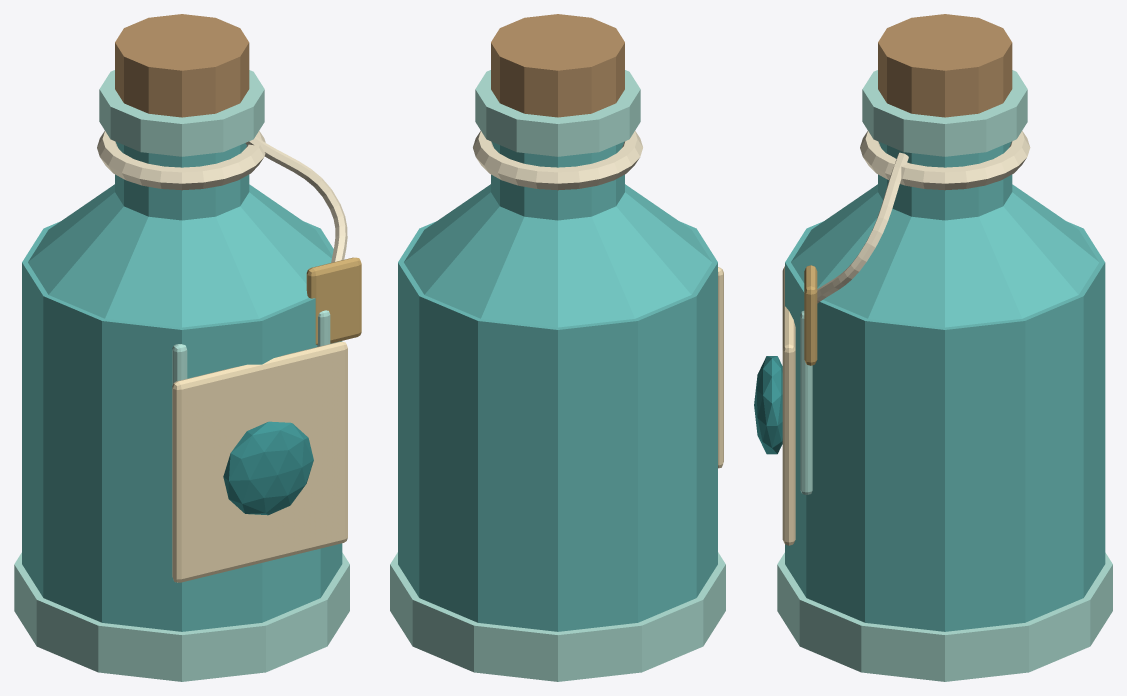
Rendered from term-bottle.glb.
3 views of the same model, side by side, from view 1: azimuth 30°, elevation 25°; view 2: azimuth 150°, elevation 25°; view 3: azimuth 270°, elevation 25° (orthographic).
Visible parts, largest first — view 1: Static_Bottle_glass_stylized, Static_Parchment, Static_Sea_glass_highlight, Static_Cork, Static_Teal_painted_cedar, Static_Sail_ivory, Static_Aged_brass; view 2: Static_Bottle_glass_stylized, Static_Sea_glass_highlight, Static_Cork, Static_Sail_ivory, Static_Parchment; view 3: Static_Bottle_glass_stylized, Static_Sea_glass_highlight, Static_Cork, Static_Sail_ivory, Static_Parchment, Static_Teal_painted_cedar, Static_Aged_brass.
Part boxes in pixels (x1,y1,x2,y2): Static_Bottle_glass_stylized: (22,141,342,631); Static_Parchment: (172,341,347,582); Static_Sea_glass_highlight: (14,70,349,681); Static_Cork: (115,14,249,117); Static_Teal_painted_cedar: (223,421,313,515); Static_Sail_ivory: (97,131,347,262); Static_Aged_brass: (306,257,361,344); Static_Bottle_glass_stylized: (398,141,717,631); Static_Sea_glass_highlight: (390,70,725,681); Static_Cork: (491,14,624,117); Static_Sail_ivory: (473,131,642,190); Static_Parchment: (718,267,723,468); Static_Bottle_glass_stylized: (785,141,1105,631); Static_Sea_glass_highlight: (777,70,1112,681); Static_Cork: (878,14,1012,117); Static_Sail_ivory: (817,131,1030,303); Static_Parchment: (782,266,795,545); Static_Teal_painted_cedar: (754,356,782,454); Static_Aged_brass: (804,265,817,365).
Size of the model in its own units: 0.65 by 1.21 by 0.695.
